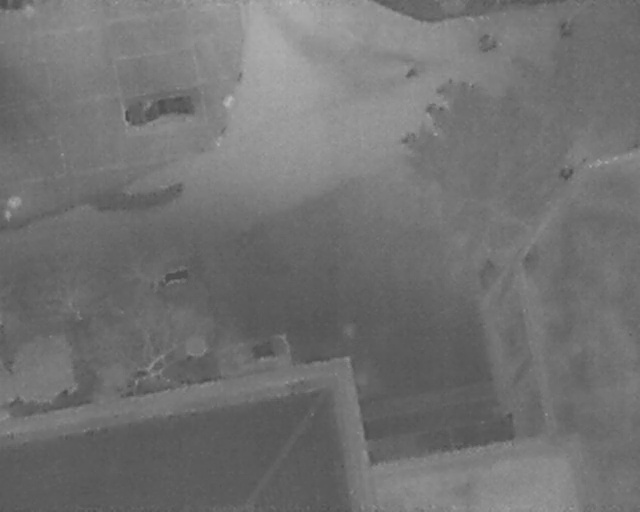Car: (213, 329, 295, 380), (123, 90, 197, 128), (2, 0, 35, 14)
